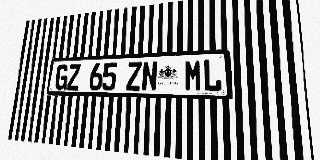5: (102, 63, 117, 91)
6: (88, 63, 104, 91)
G: (55, 64, 69, 90)
L: (203, 59, 222, 92)
M: (184, 59, 202, 92)
N: (141, 61, 158, 91)
Z: (126, 62, 142, 91), (66, 64, 81, 90)
